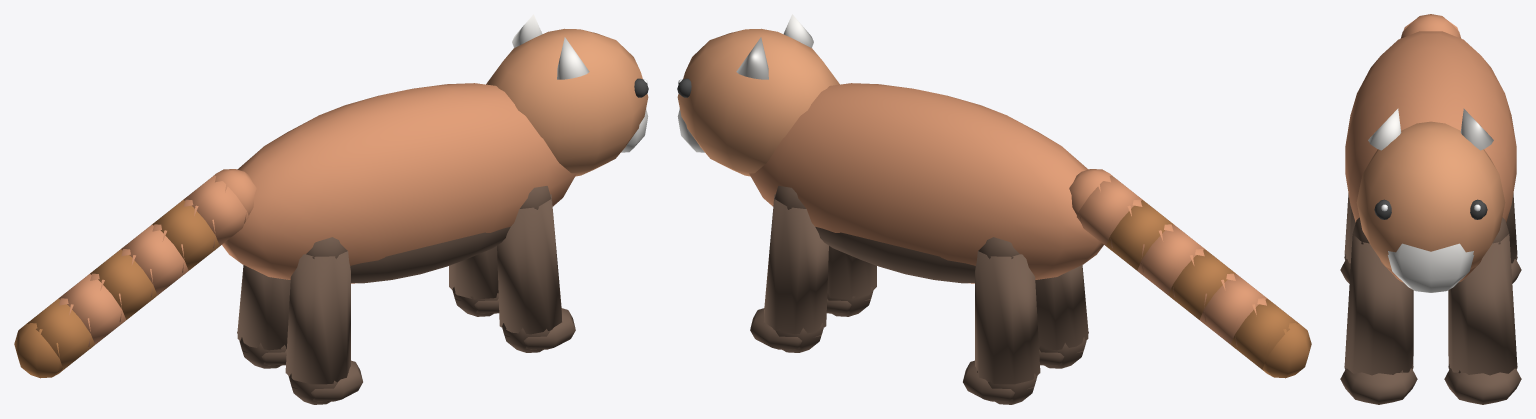
File: red-panda.glb
3 renders of one model, left to right at view 1: azimuth 30°, elevation 25°; view 2: azimuth 150°, elevation 25°; view 3: azimuth 270°, elevation 25°, orthographic. The views are drawn at different scales.
Parts seen in each view (by area): view 1: e, e.023, cone; view 2: e, e.023, cone; view 3: e, cone, e.023.
Part boxes in pixels (bbox=[...]): e: bbox=[222, 83, 576, 404]; e.023: bbox=[14, 169, 256, 378]; cone: bbox=[486, 14, 648, 176]; e: bbox=[749, 83, 1103, 404]; e.023: bbox=[1069, 169, 1311, 378]; cone: bbox=[677, 14, 839, 176]; e: bbox=[1340, 31, 1521, 404]; cone: bbox=[1356, 108, 1505, 292]; e.023: bbox=[1400, 14, 1461, 38].
Size of the model in its own units: 1.22 by 0.5561 by 0.293.
